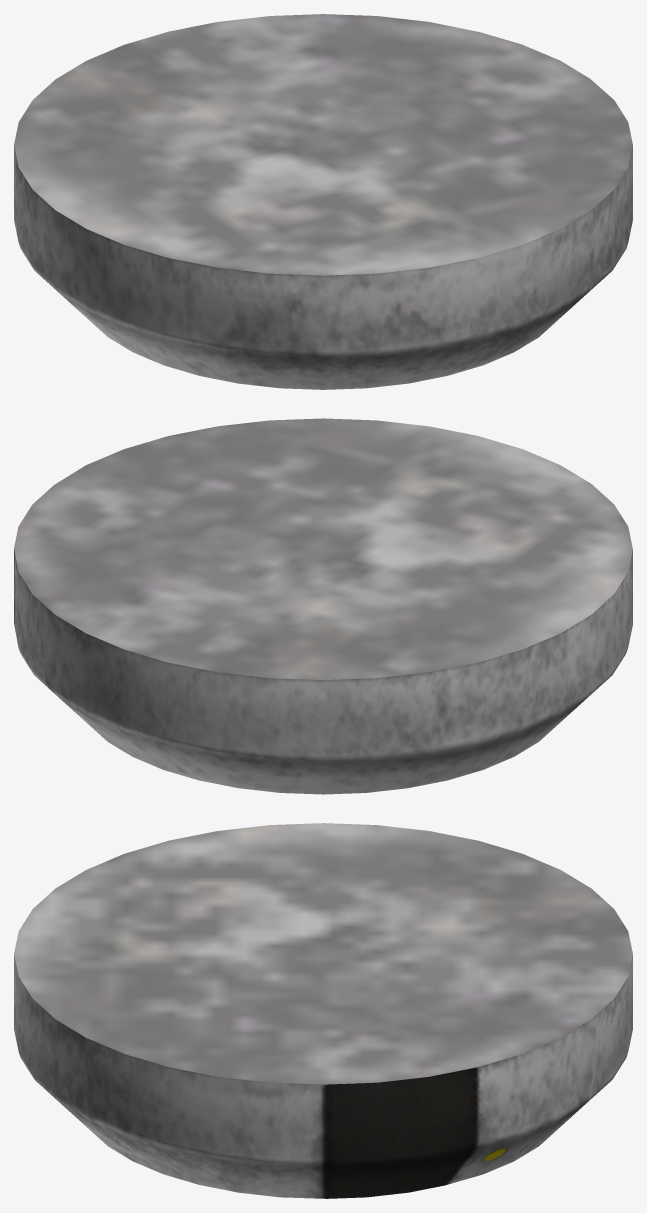
Rendered from abcdetector.dae.
3 views of the same model, one above another, from view 1: azimuth 30°, elevation 25°; view 2: azimuth 150°, elevation 25°; view 3: azimuth 270°, elevation 25° (orthographic).
Visible parts, largest first — view 1: abcdetector_polySurface1_group; view 2: abcdetector_polySurface1_group; view 3: abcdetector_polySurface1_group.
Part boxes in pixels (x1=…): abcdetector_polySurface1_group: x1=14, y1=14, x2=632, y2=389; abcdetector_polySurface1_group: x1=14, y1=418, x2=632, y2=794; abcdetector_polySurface1_group: x1=14, y1=823, x2=632, y2=1198.
Bounding box in the file's own units: 0.2998 × 0.0759 × 0.3.
Materials: 1 (1 with a texture image).
